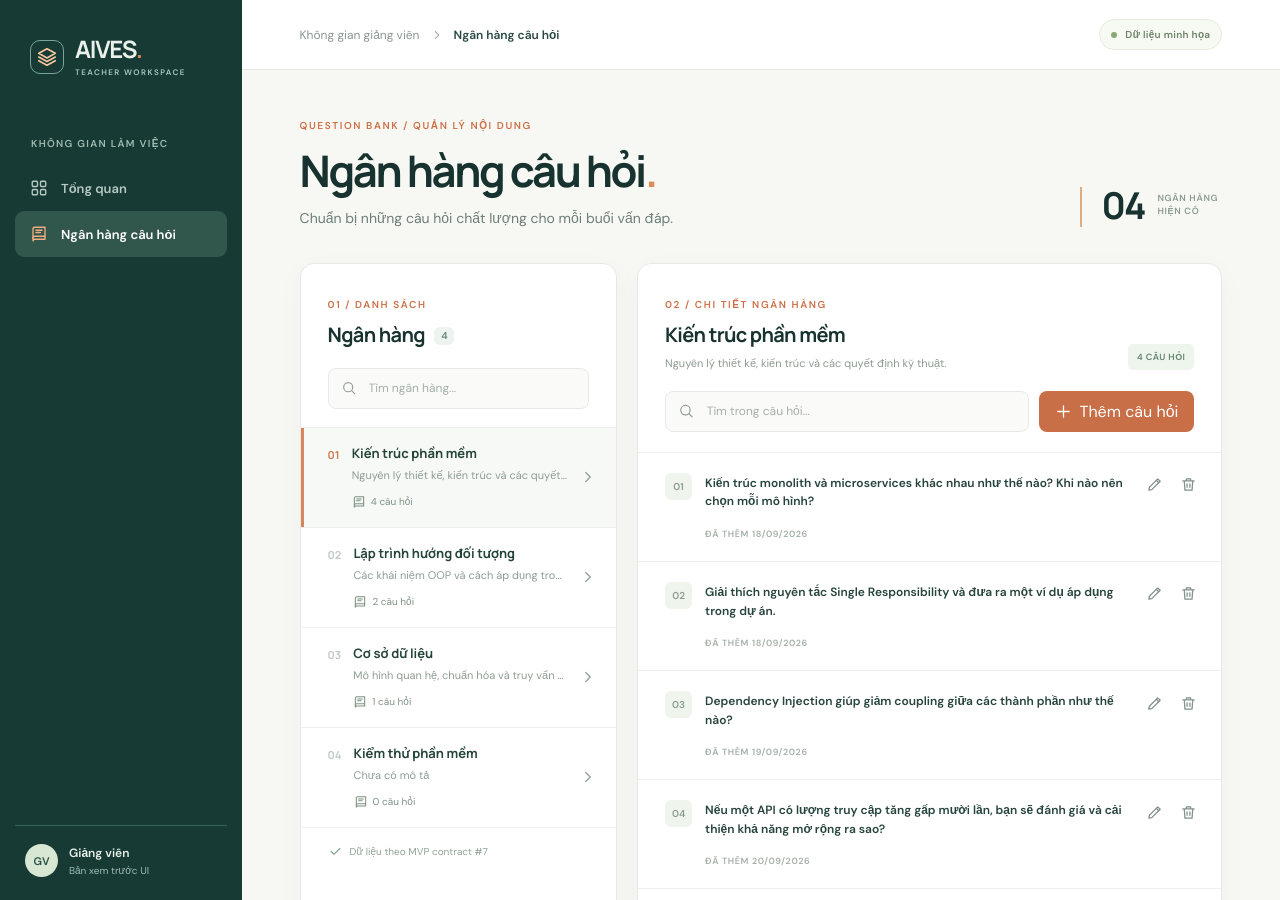
Test: QuestionBankWorkspace › shows the first bank and switches to another bank without fetching data
Expected: the heading "Kiến trúc phần mềm" is shown, [665, 321, 845, 348]
Expected: the text "Kiến trúc monolith và microservices" is shown, [705, 475, 1123, 509]
Click the button "Lập trình hướng đối tượng": (458, 578) [301, 528, 616, 628]
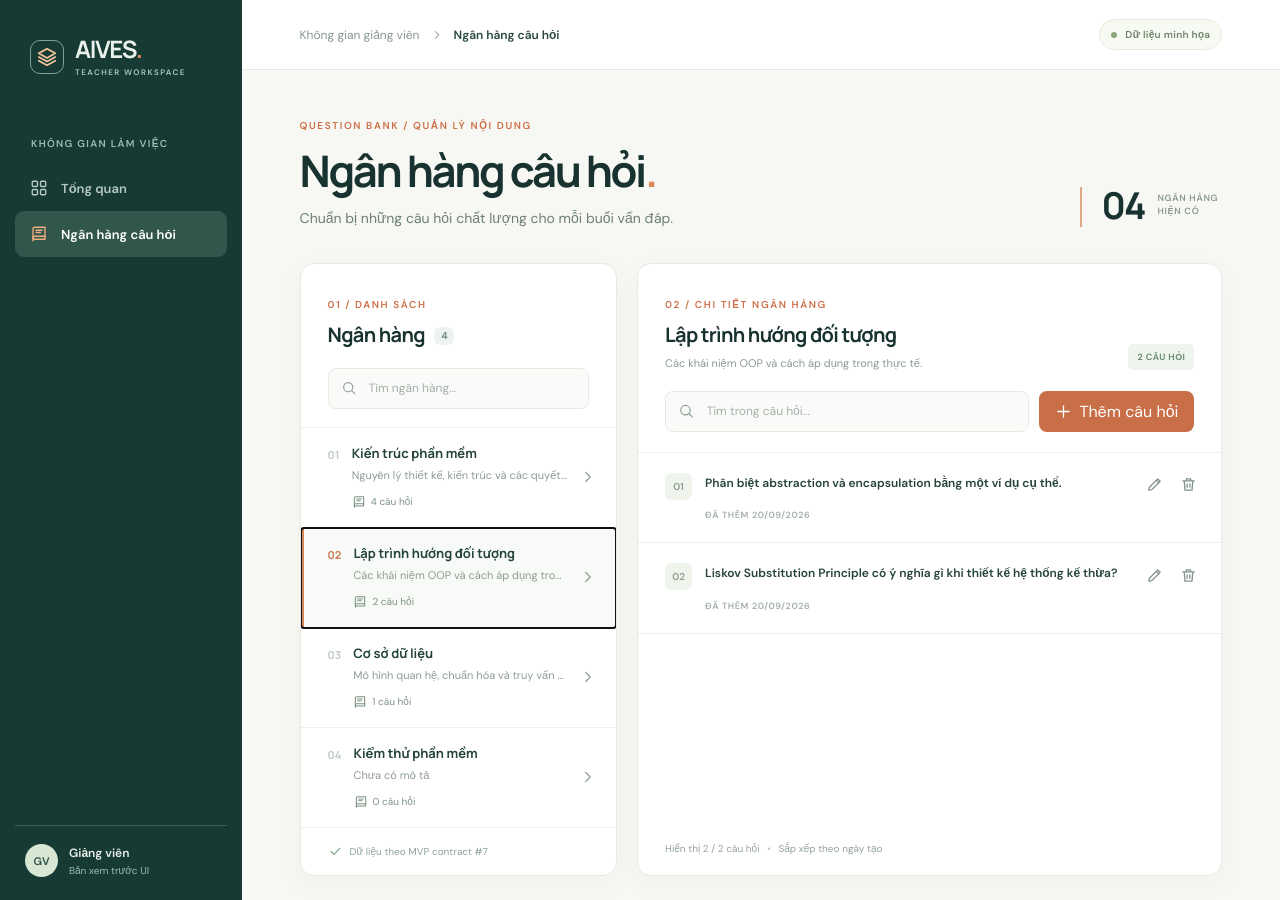
Result: the heading "Lập trình hướng đối tượng" is shown at [665, 322, 922, 347]
Result: the text "Phân biệt abstraction và encapsulation" is shown at [705, 475, 1062, 491]
Result: the text "Kiến trúc monolith và microservices" is gone
